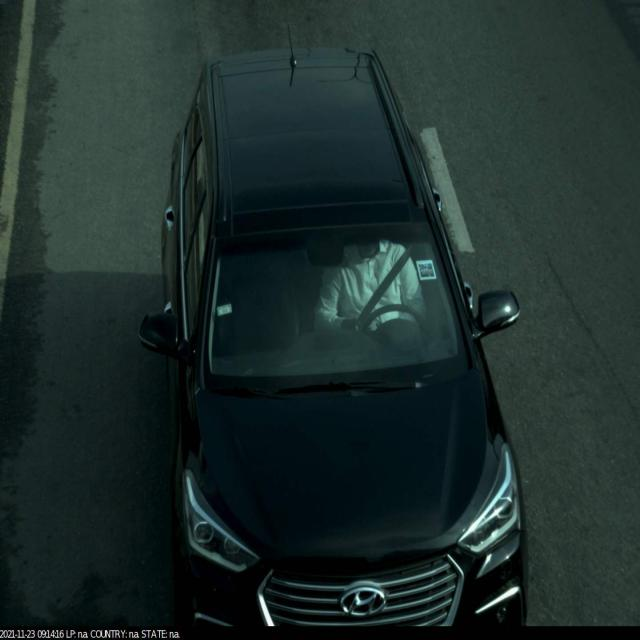windshield: (188, 206, 478, 398)
